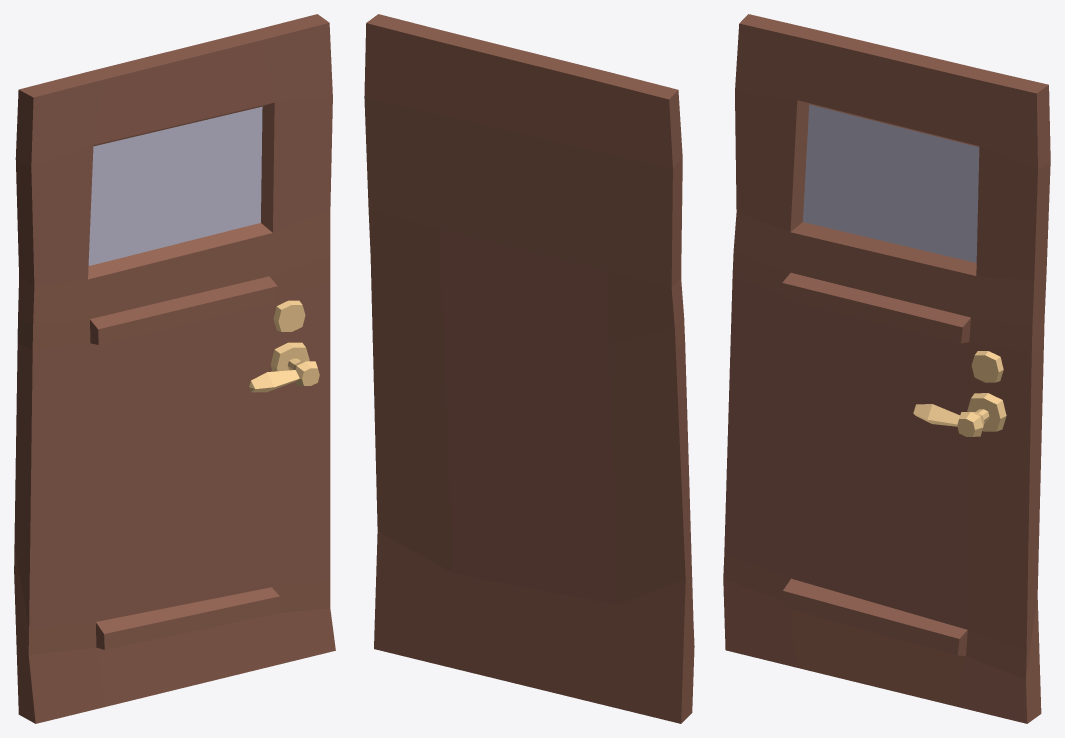
Rendered from door_house_swedish.fbx.
3 views of the same model, side by side, from view 1: azimuth 30°, elevation 25°; view 2: azimuth 150°, elevation 25°; view 3: azimuth 330°, elevation 25° (orthographic).
Parts seen in each view (by area): view 1: Cube.073; view 2: Cube.073; view 3: Cube.073.
Boxes of the visible parts, x1=… form: Cube.073: x1=14, y1=14, x2=335, y2=723; Cube.073: x1=364, y1=14, x2=694, y2=723; Cube.073: x1=723, y1=14, x2=1050, y2=723.
Size of the model in its own units: 1 by 0.2181 by 1.92.
